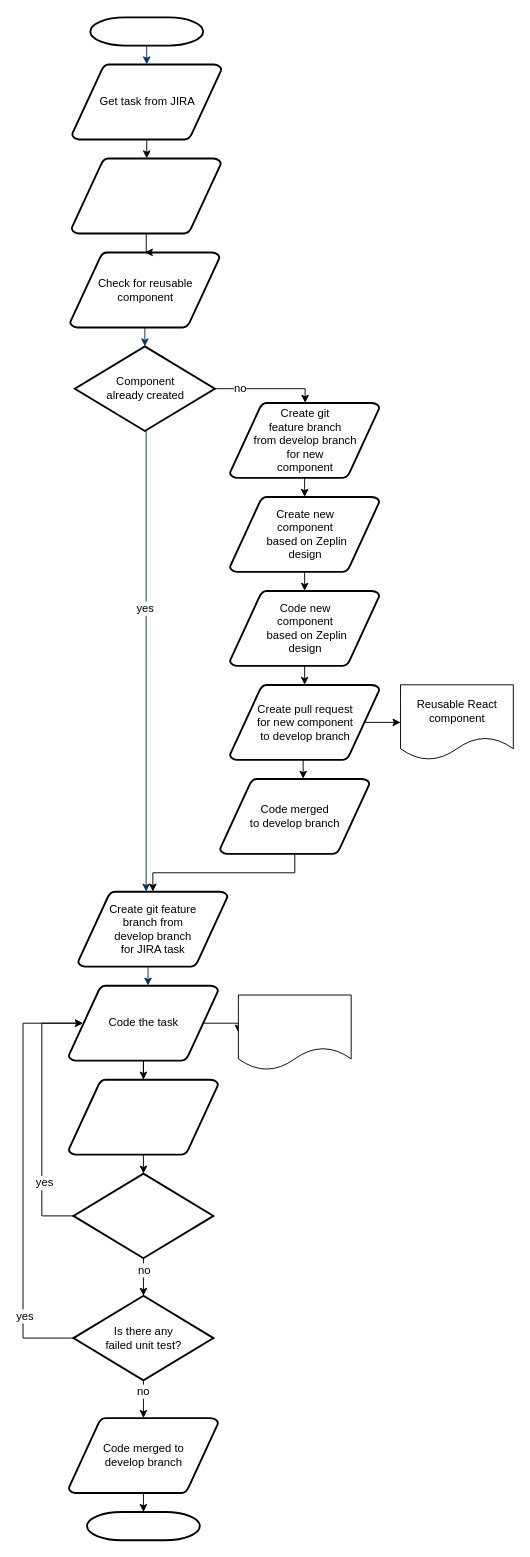
This 530x1557 diagram has some shape labels left out. Each missing label, with the box of its shape:
Analyze design on Zeplin: (70, 157, 221, 234)
Create pull request for the task to develop branch: (67, 1078, 219, 1155)
End: (86, 1511, 200, 1541)
Is there any feedback from other team member?: (72, 1172, 214, 1259)
React code for the task: (237, 994, 351, 1070)
Start: (89, 16, 204, 46)
